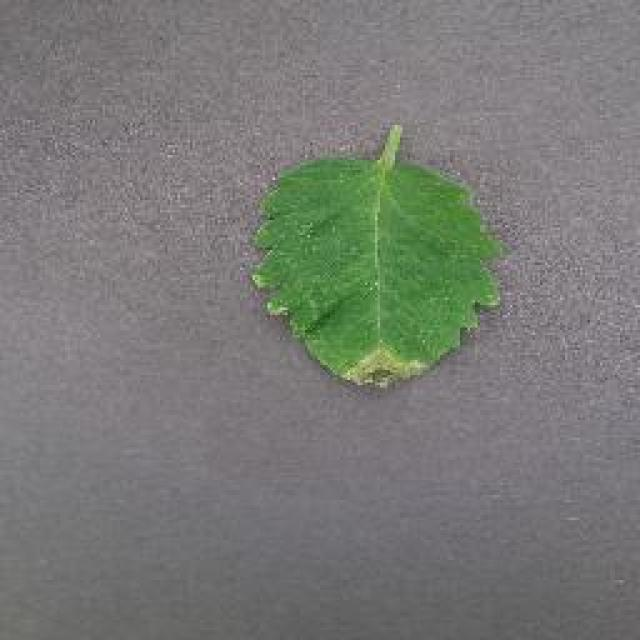Tomato late blight leaf: (252, 122, 498, 400)
